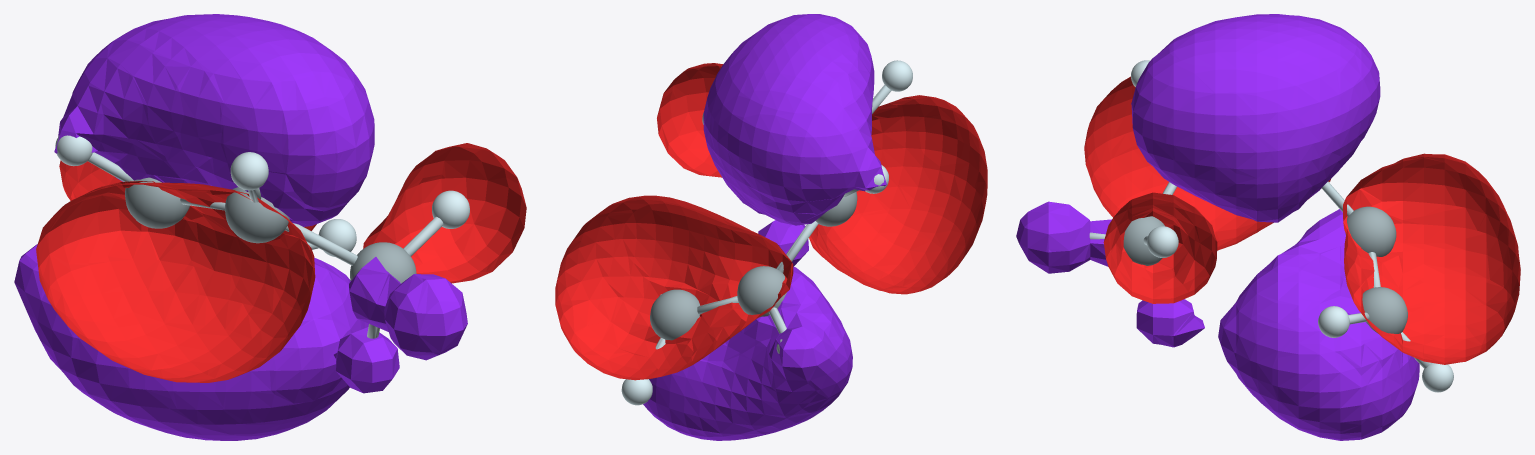
3 renders of one model, left to right at view 1: azimuth 30°, elevation 25°; view 2: azimuth 150°, elevation 25°; view 3: azimuth 270°, elevation 25°, orthographic. The views are drawn at different scales.
Parts seen in each view (by area): view 1: Renderer Node; view 2: Renderer Node; view 3: Renderer Node.
Part boxes in pixels (bbox=[...]): Renderer Node: bbox=[14, 14, 526, 440]; Renderer Node: bbox=[555, 14, 987, 440]; Renderer Node: bbox=[1016, 14, 1520, 440].
Bounding box in the file's own units: 4.98 × 5.26 × 6.32.
